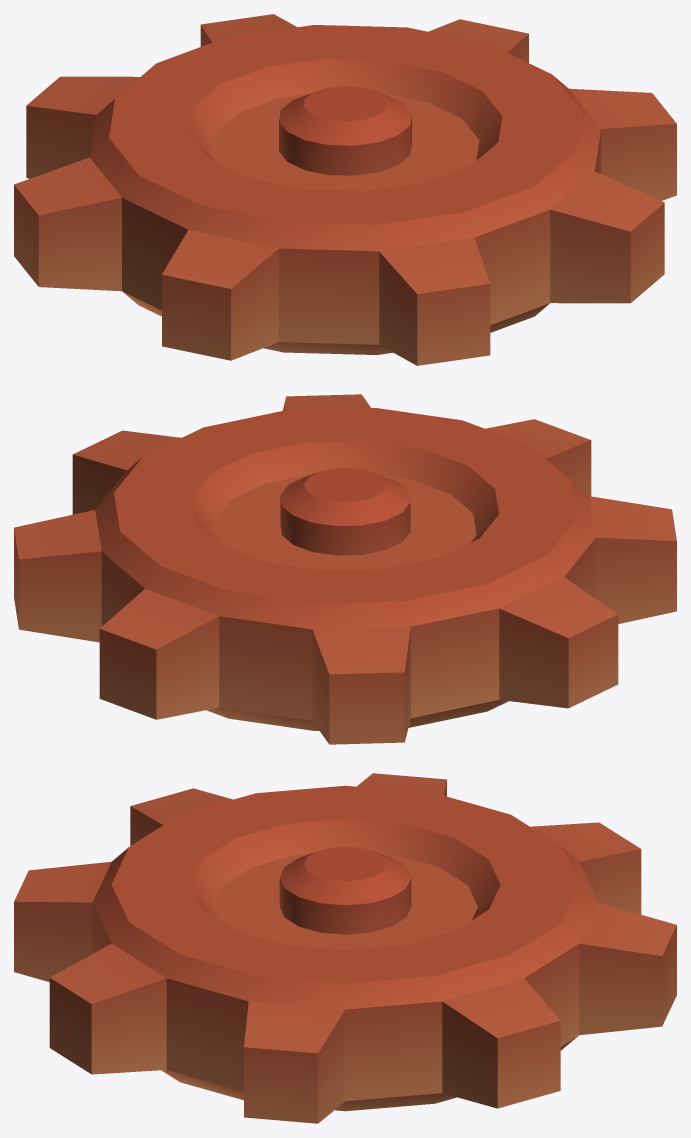
File: gear.fbx
3 views of the same model, one above another, from view 1: azimuth 30°, elevation 25°; view 2: azimuth 150°, elevation 25°; view 3: azimuth 270°, elevation 25° (orthographic). The views are drawn at different scales.
Parts seen in each view (by area): view 1: gear; view 2: gear; view 3: gear.
Part boxes in pixels (x1=…): gear: x1=14, y1=14, x2=676, y2=365; gear: x1=14, y1=394, x2=676, y2=744; gear: x1=14, y1=773, x2=676, y2=1123.
Size of the model in its own units: 262 by 73.72 by 262.
